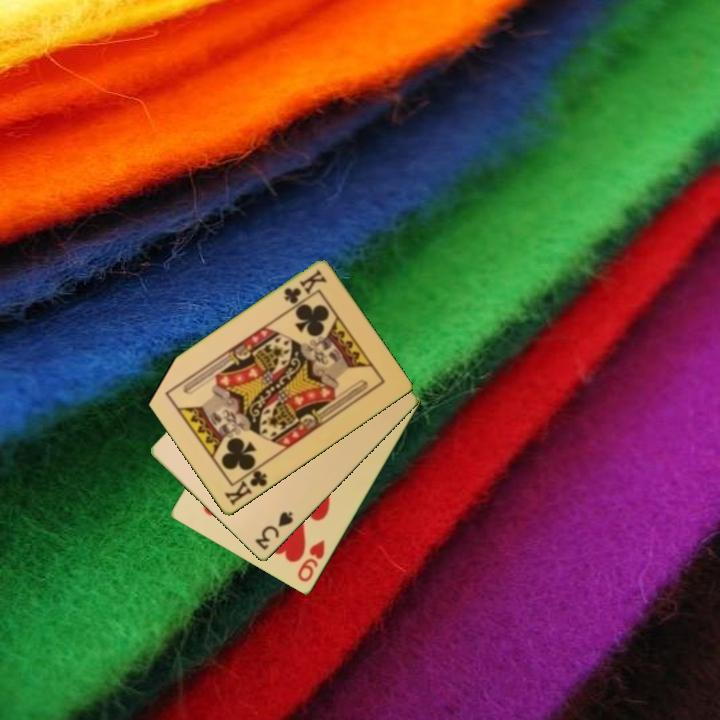3s: (251, 508, 296, 553)
9h: (294, 536, 328, 585)
Kc: (220, 462, 270, 509), (280, 266, 330, 307)
